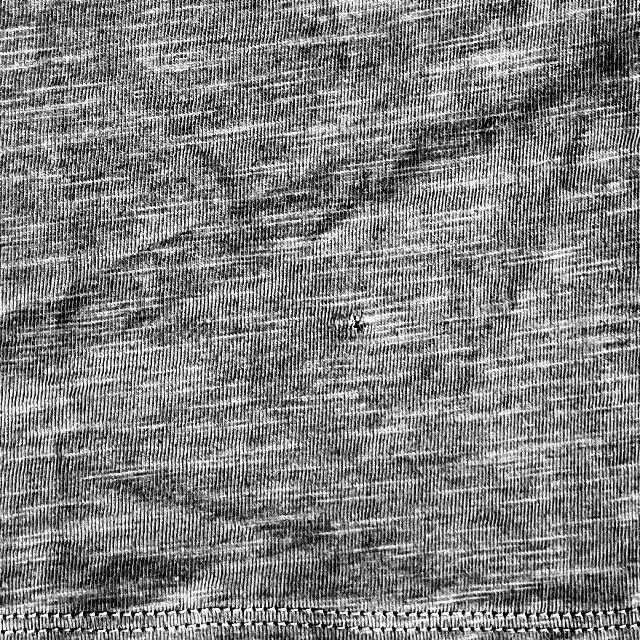Hole: (348, 316, 370, 338)
